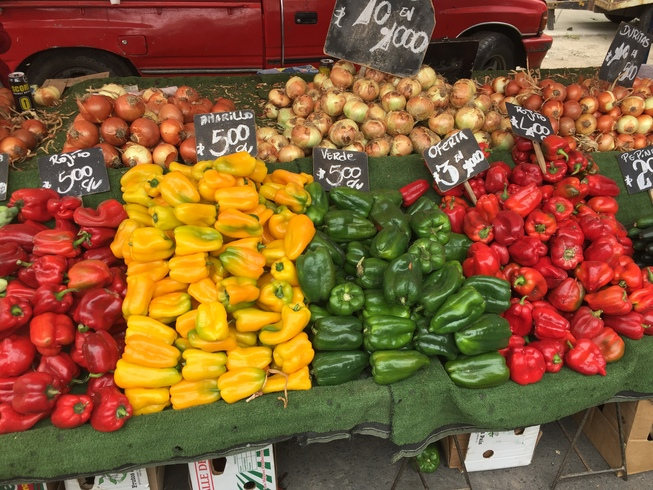precio: (312, 1, 461, 85), (188, 102, 267, 174), (414, 128, 493, 199), (583, 18, 653, 90), (35, 147, 116, 206), (308, 137, 375, 199), (503, 89, 556, 152), (609, 141, 653, 194)
